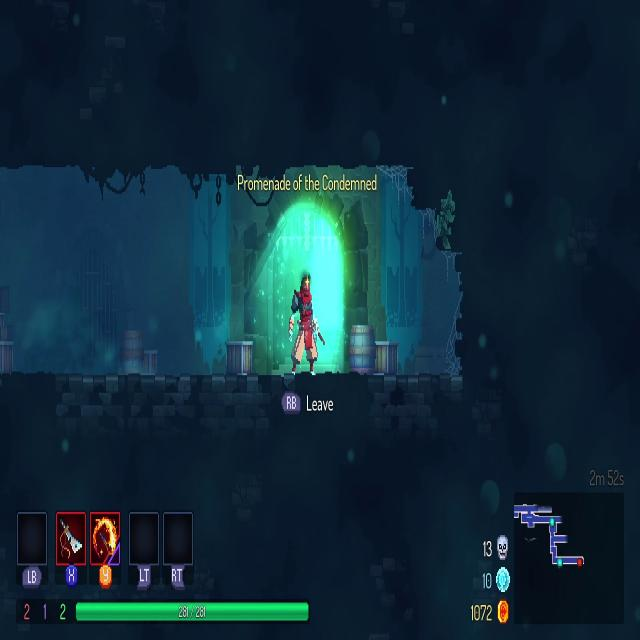agents: (286, 273, 322, 380)
door_nextLevel: (224, 169, 386, 384)
